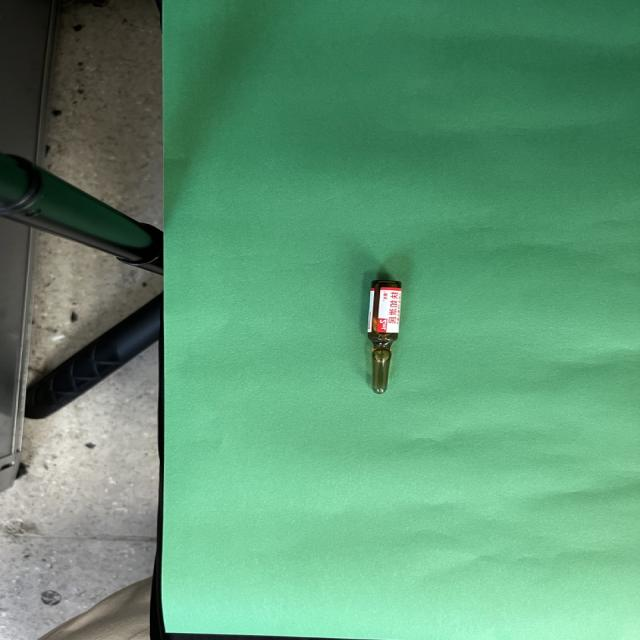Ampoules: (367, 280, 401, 394)
